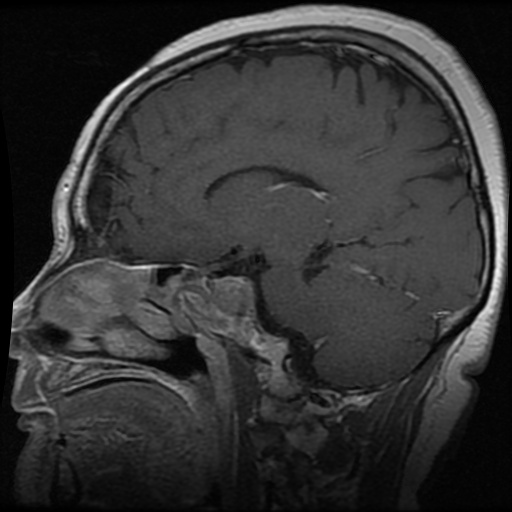pituitary: (213, 275, 256, 313)
